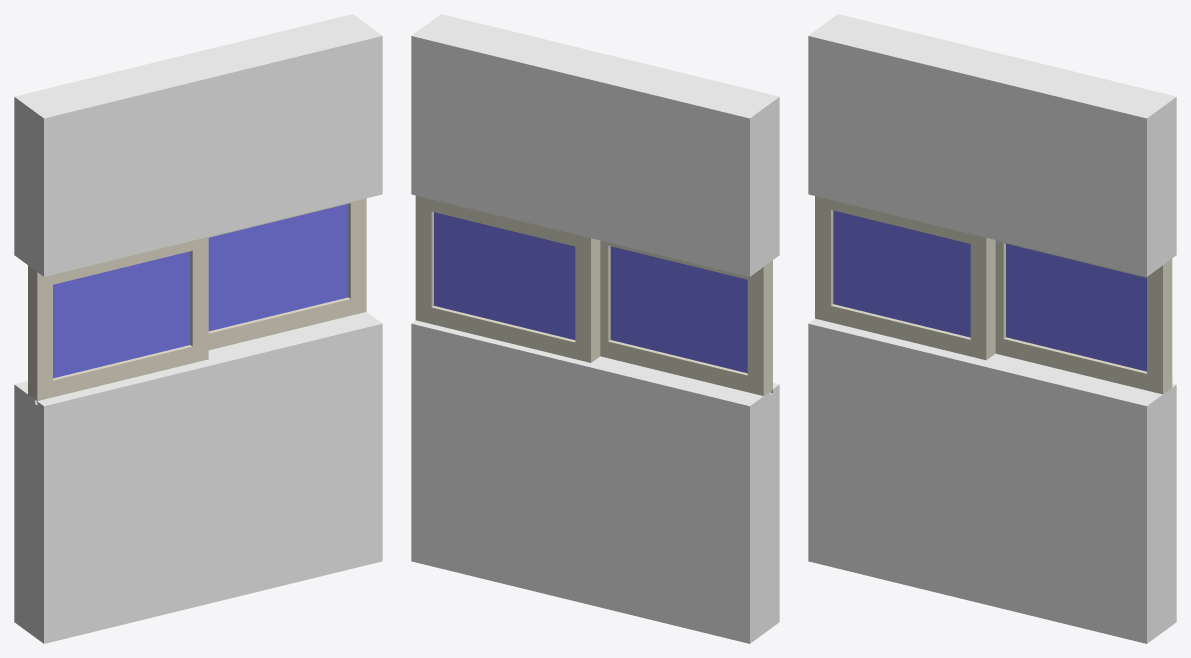
Rendered from Operating_room_Window7-1.fbx.
3 renders of one model, left to right at view 1: azimuth 30°, elevation 25°; view 2: azimuth 150°, elevation 25°; view 3: azimuth 330°, elevation 25°, orthographic.
Visible parts, largest first — view 1: Operating room Window7-1.001, Operating room Window7-1.003, Operating room Window7-1.005, Operating room Window7-1.004, Operating room Window7-1.002, Operating room Window7-1; view 2: Operating room Window7-1.001, Operating room Window7-1.003, Operating room Window7-1.005, Operating room Window7-1.004, Operating room Window7-1, Operating room Window7-1.002; view 3: Operating room Window7-1.001, Operating room Window7-1.003, Operating room Window7-1.005, Operating room Window7-1.004, Operating room Window7-1.002, Operating room Window7-1.
Boxes of the visible parts, box(x1,y1,x2,y2) form: Operating room Window7-1.001: box(14, 312, 382, 643); Operating room Window7-1.003: box(14, 14, 382, 276); Operating room Window7-1.005: box(208, 204, 348, 331); Operating room Window7-1.004: box(53, 251, 190, 378); Operating room Window7-1.002: box(28, 237, 208, 400); Operating room Window7-1: box(208, 198, 366, 350); Operating room Window7-1.001: box(411, 320, 779, 643); Operating room Window7-1.003: box(411, 14, 779, 276); Operating room Window7-1.005: box(434, 212, 575, 339); Operating room Window7-1.004: box(610, 246, 747, 373); Operating room Window7-1: box(415, 195, 600, 362); Operating room Window7-1.002: box(600, 240, 772, 395); Operating room Window7-1.001: box(808, 318, 1176, 643); Operating room Window7-1.003: box(808, 14, 1176, 276); Operating room Window7-1.005: box(1006, 243, 1146, 371); Operating room Window7-1.004: box(833, 210, 970, 337); Operating room Window7-1.002: box(815, 196, 995, 360); Operating room Window7-1: box(995, 240, 1172, 394).
Bounding box in the file's own units: 8.5 × 12.6 × 1.3.
